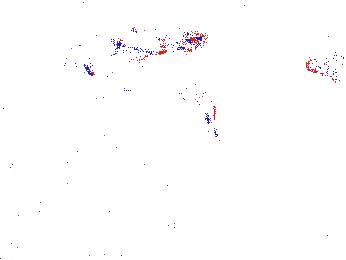glassfish: (186, 69, 219, 139)
redtail glassfish: (108, 29, 209, 68), (49, 45, 98, 76), (303, 52, 346, 77)
